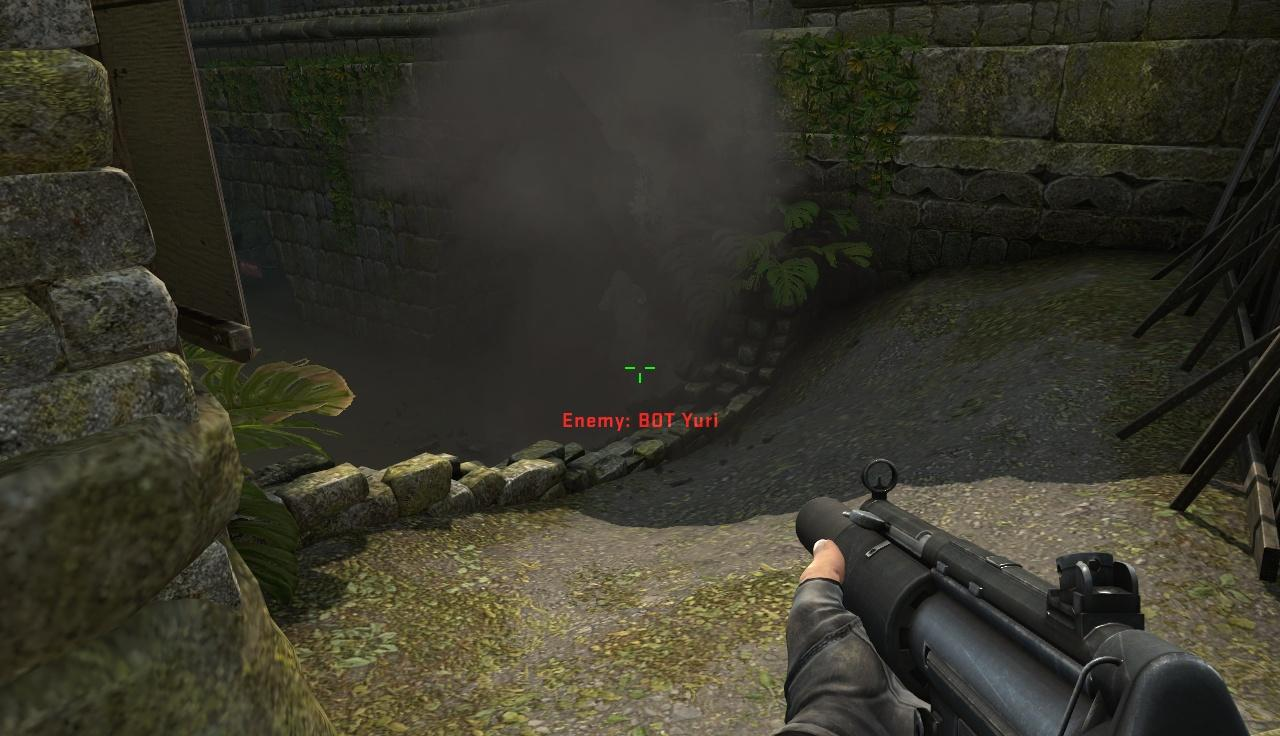rifle: (799, 457, 1264, 731)
